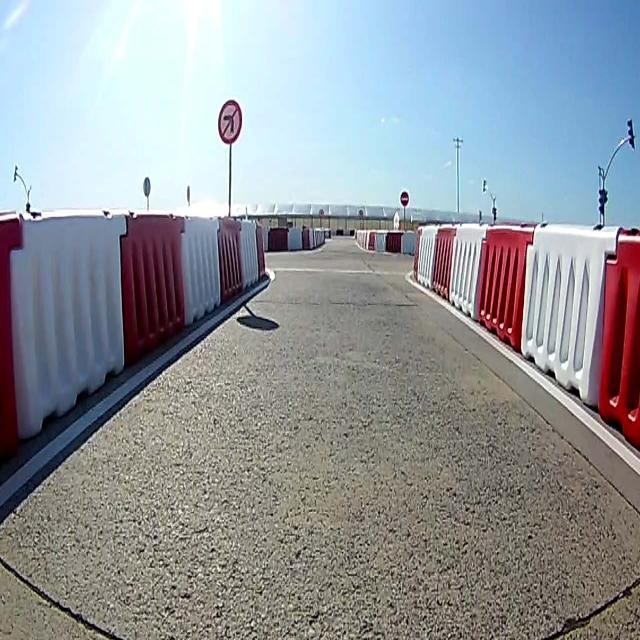girisyok: (400, 188, 410, 210)
soladonulmez: (218, 98, 240, 146)
